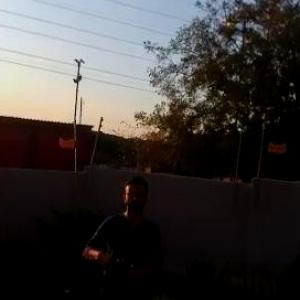follow: (75, 164, 168, 299)
